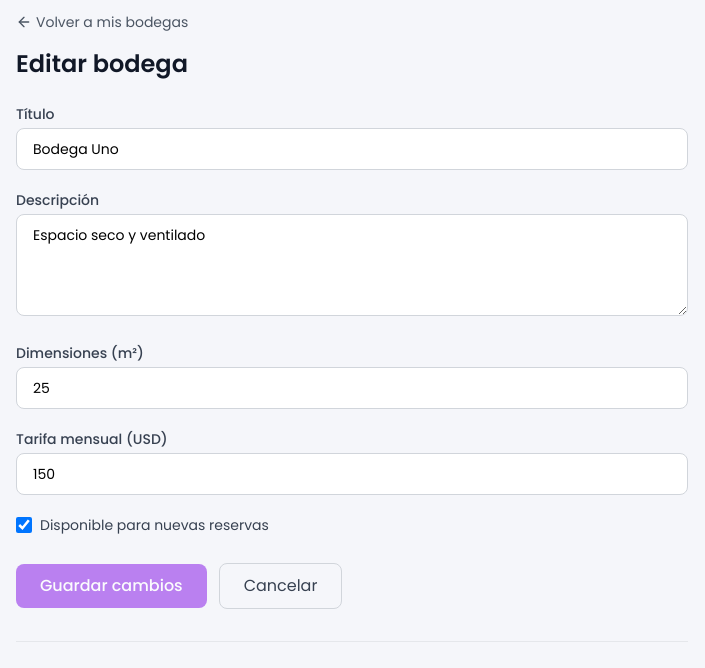
Test: EditarBodega › blocks the submit and shows a field error when the tarifa is zero (scenario 2)
Replace the text in the number field labelled "Tarifa mensual (USD)" with "0" at (352, 474), box top-left (16, 453), bottom-right (688, 495)
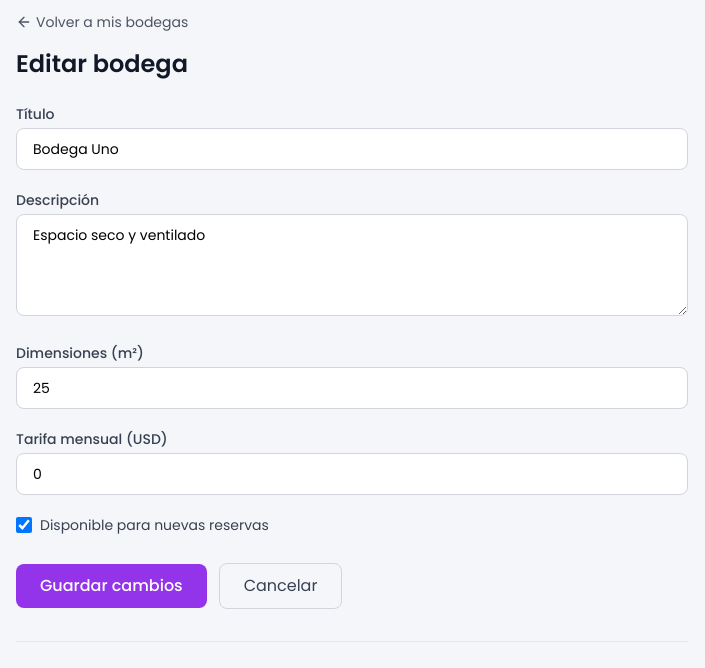
Click the button "Guardar cambios".
click(111, 586)  # box top-left (16, 564), bottom-right (207, 608)
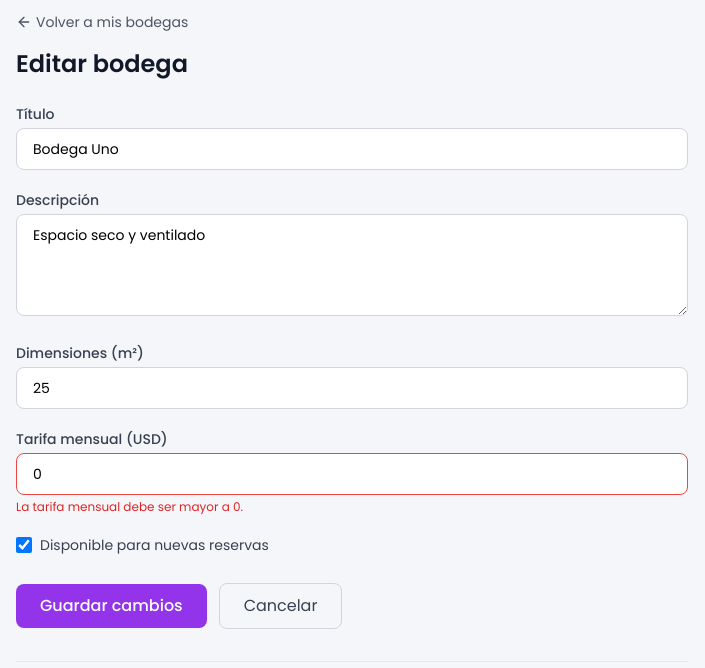
Check: the text "La tarifa mensual debe ser mayor a 0." is shown, box top-left (16, 498), bottom-right (243, 515)
